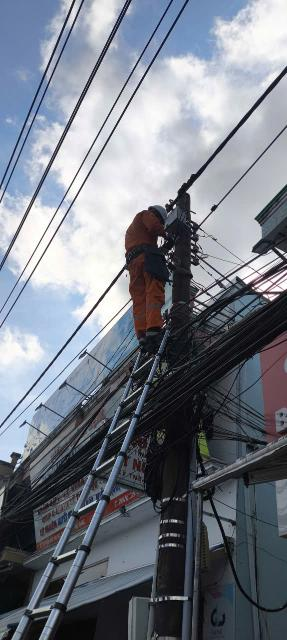gloves: (163, 231, 179, 250)
harness: (118, 242, 167, 265)
helmet: (150, 199, 173, 228)
shoes: (143, 322, 170, 341), (136, 333, 150, 348)
